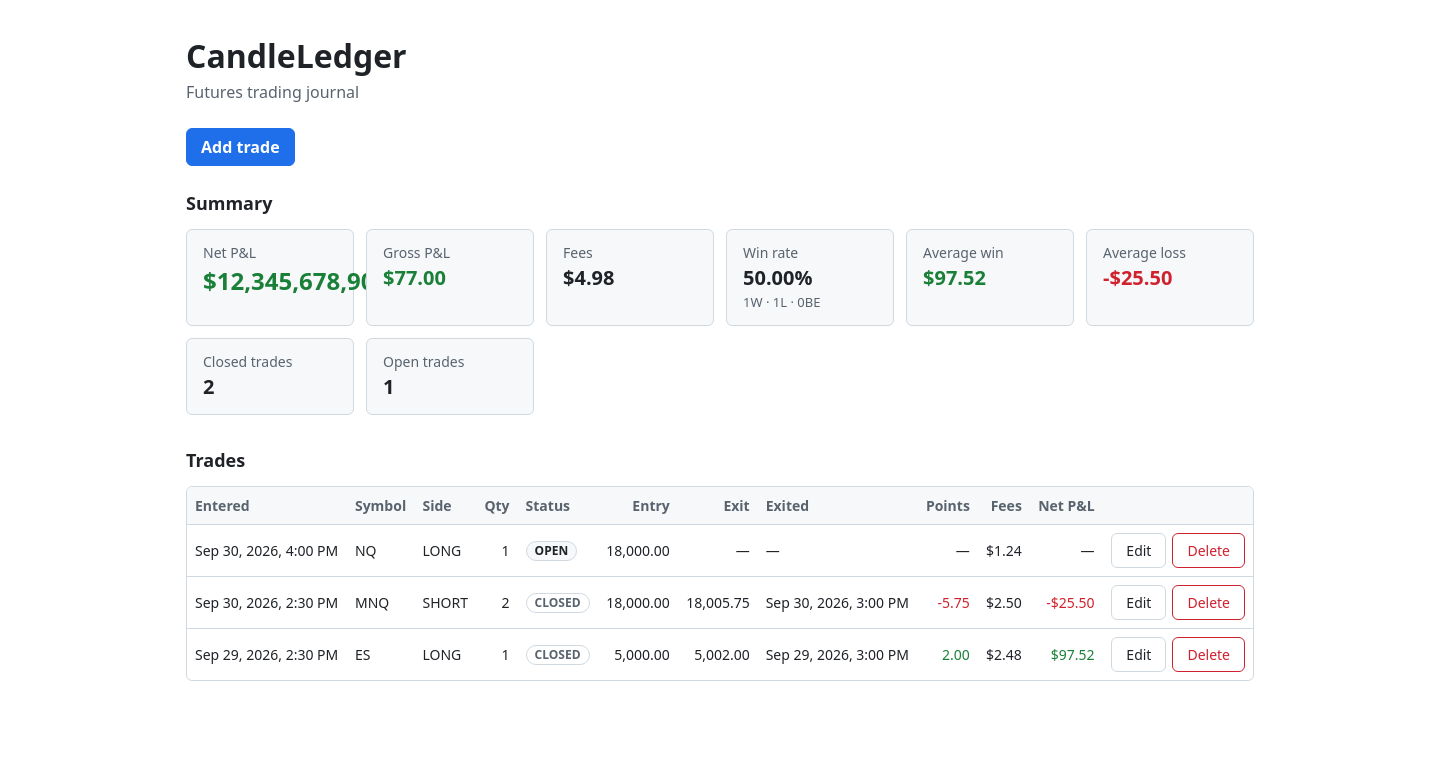
Test case: Edit trade › treats any other 404 as a failed save
This screenshot has width=1440, height=774.
Expected: the table is shown, [187,486,1253,680]
Click the button with aria-label "Edit MNQ SHORT".
click(1139, 602)  # box [1111,584,1166,620]
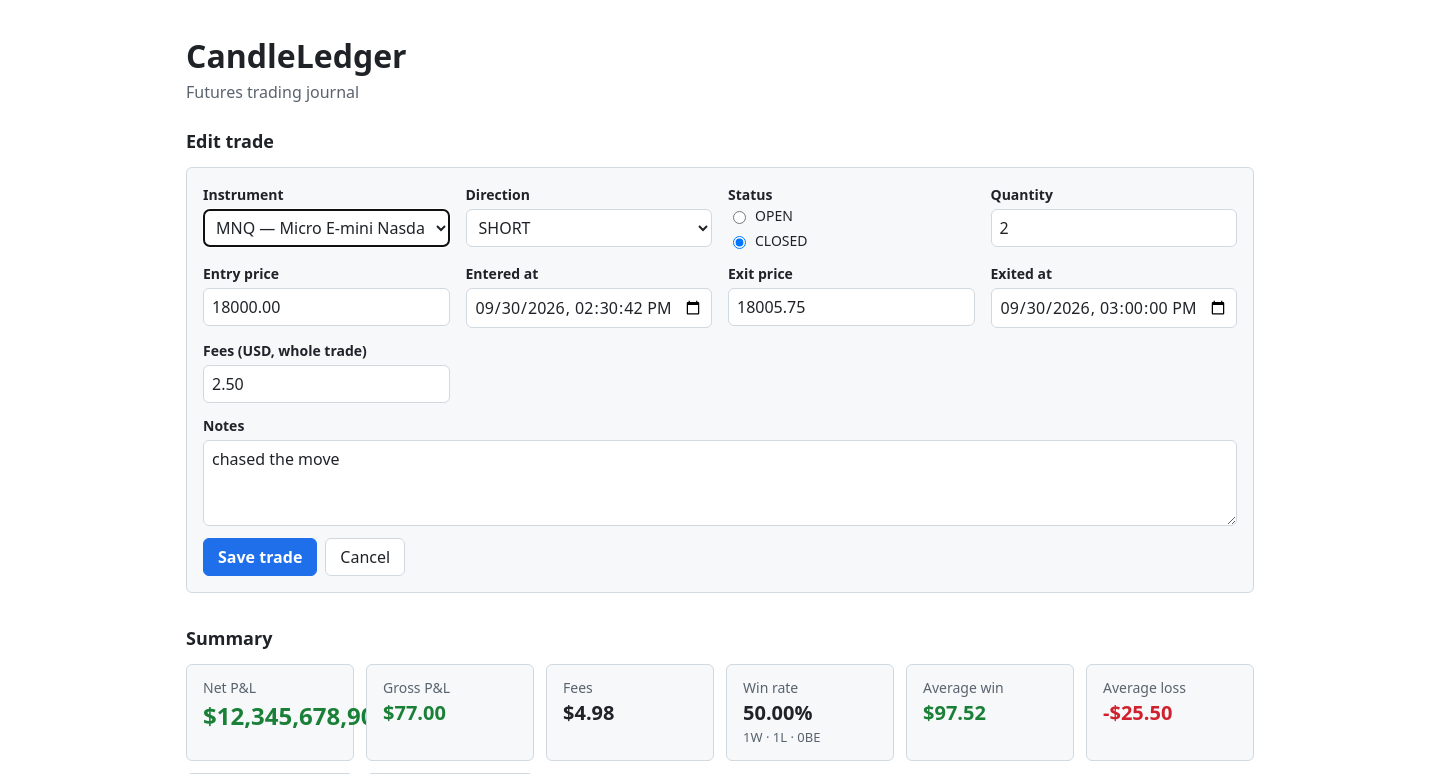
Click the button "Save trade".
click(260, 557)  # box [203,538,317,576]
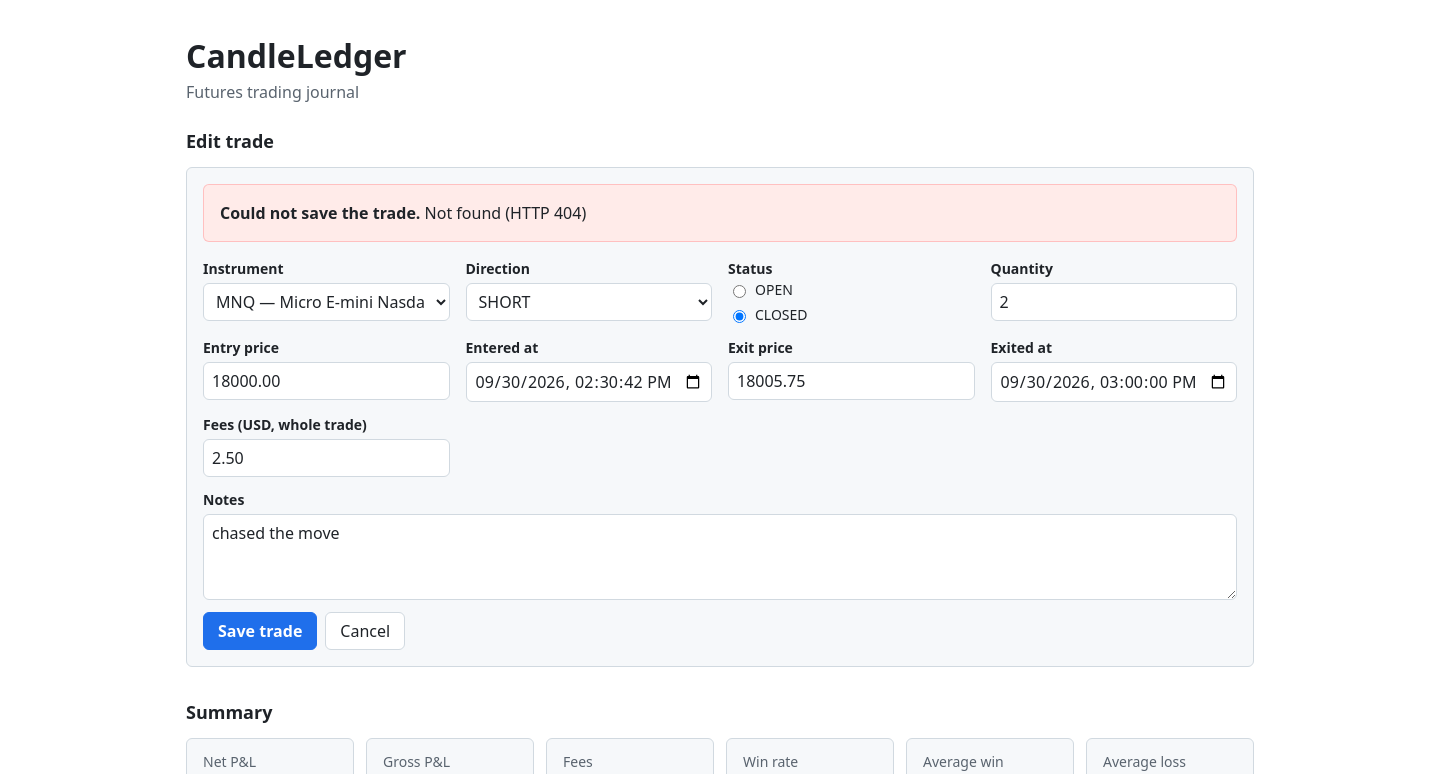
Result: the element "Edit trade" is shown at [186,128,1254,667]
Result: the message reads "Could not save the trade. Not found (HTTP 404)" at [203,184,1237,242]
